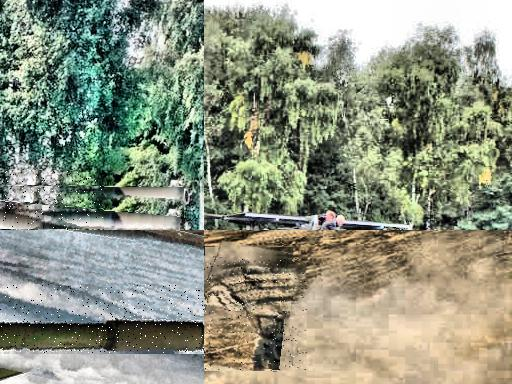tanks: (205, 258, 308, 372), (1, 318, 205, 349), (211, 216, 409, 231), (1, 209, 100, 231)
